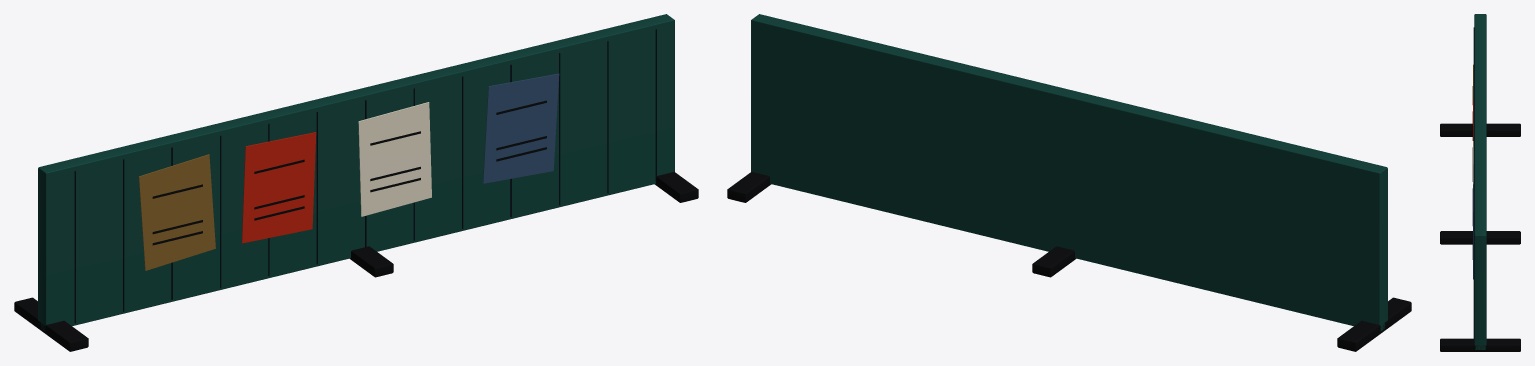
File: construction-wall-6-5.glb
3 views of the same model, side by side, from view 1: azimuth 30°, elevation 25°; view 2: azimuth 150°, elevation 25°; view 3: azimuth 270°, elevation 25° (orthographic). The views are drawn at different scales.
Parts seen in each view (by area): view 1: construction-wall-6-5; view 2: construction-wall-6-5; view 3: construction-wall-6-5.
Part boxes in pixels (bbox=[...]): construction-wall-6-5: bbox=[14, 14, 698, 351]; construction-wall-6-5: bbox=[727, 14, 1411, 351]; construction-wall-6-5: bbox=[1440, 14, 1520, 351].
Bounding box in the file's own units: 6.5 × 1.6 × 1.
1 material, 1 textured.
